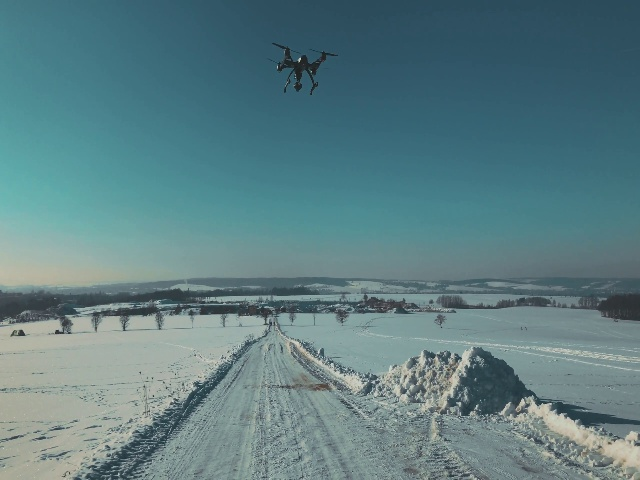drone: (266, 41, 339, 98)
